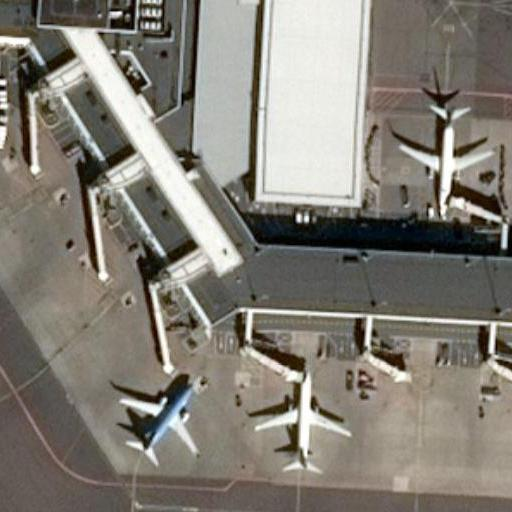Aircraft: (389, 93, 499, 219), (253, 369, 357, 475), (110, 369, 208, 466)
